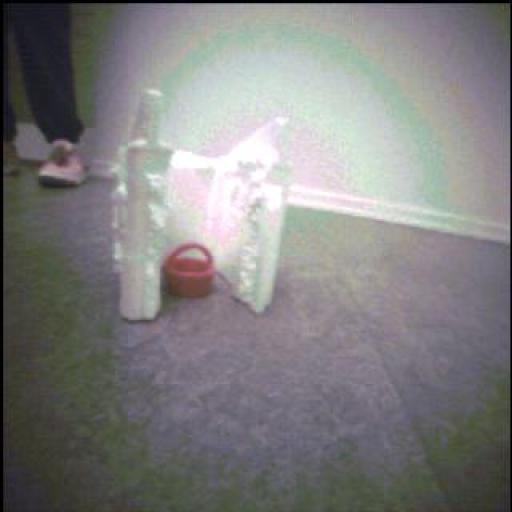Bucket: (165, 244, 216, 299)
